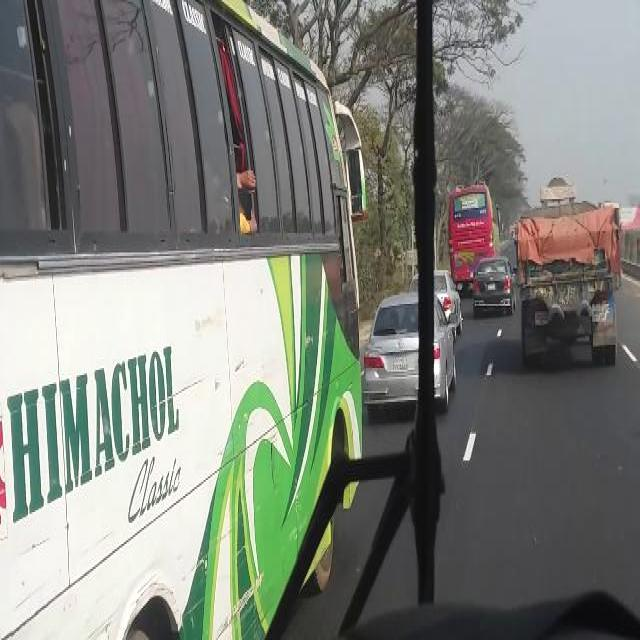BUS: (449, 178, 496, 298)
TRUCK: (514, 209, 620, 372)
